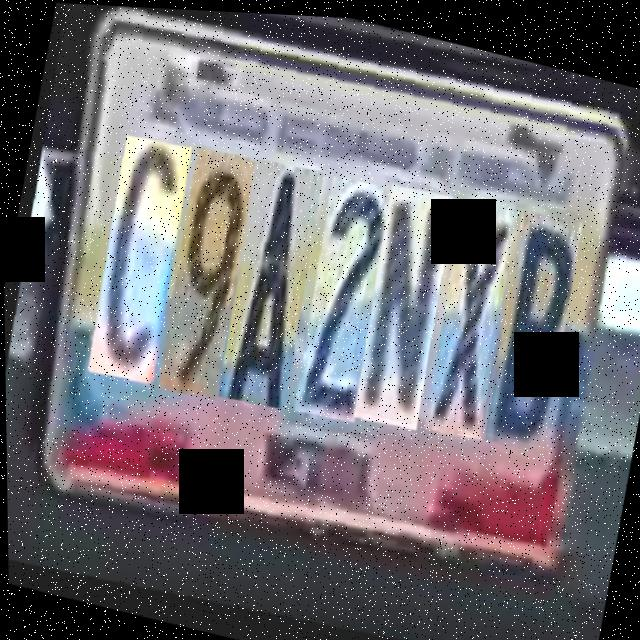2: (280, 161, 394, 418)
9: (144, 139, 257, 399)
A: (204, 146, 326, 408)
B: (470, 191, 583, 442)
C: (73, 126, 193, 386)
N: (339, 170, 456, 424)
X: (410, 183, 518, 431)
